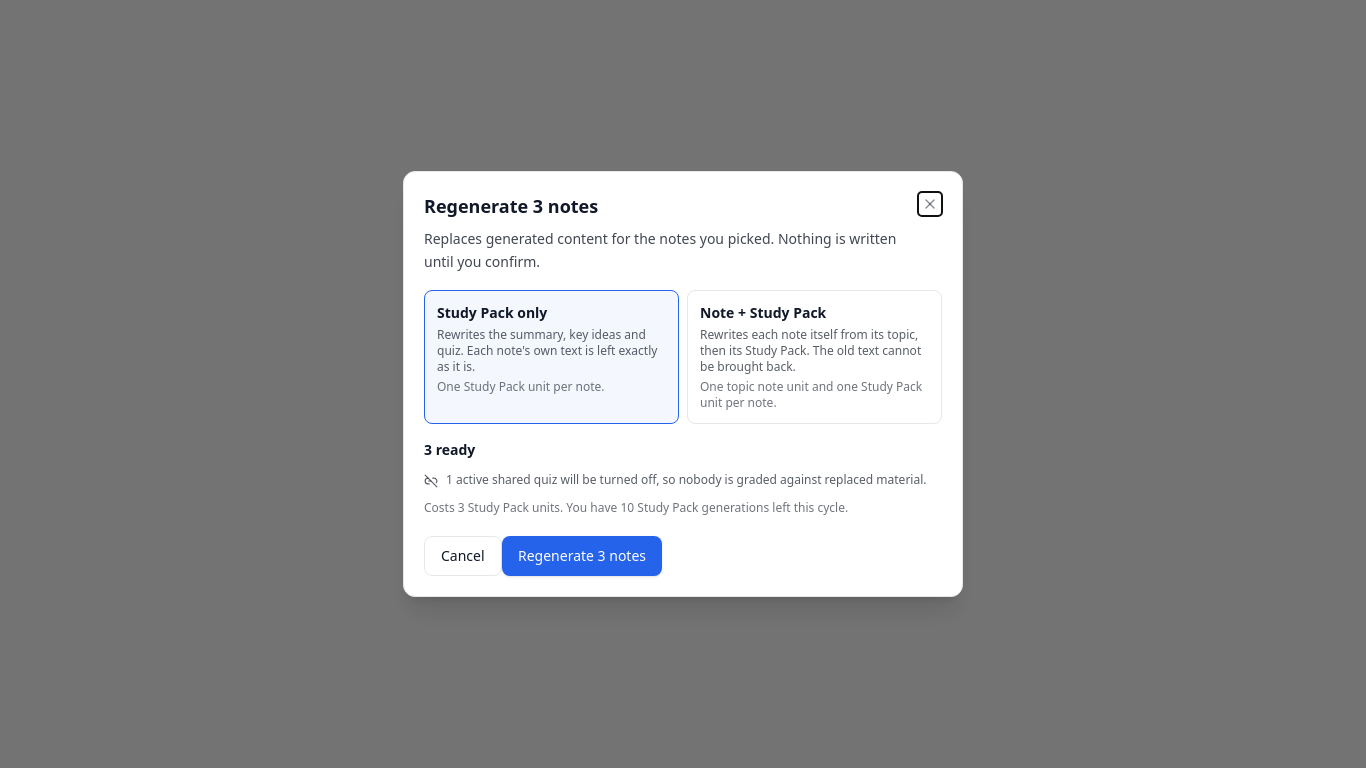
Test case: BulkRegenerateModal › warns about a shared-quiz deactivation on either scope, but public notes only on the combined scope
Expected: the text "public note" is not shown
Expected: the text "1 active shared quiz will be" is shown, [446,472,926,488]
Step 1. Click the radio button labelled "Rewrites each note itself" → (814, 357), box [687,290,942,424]
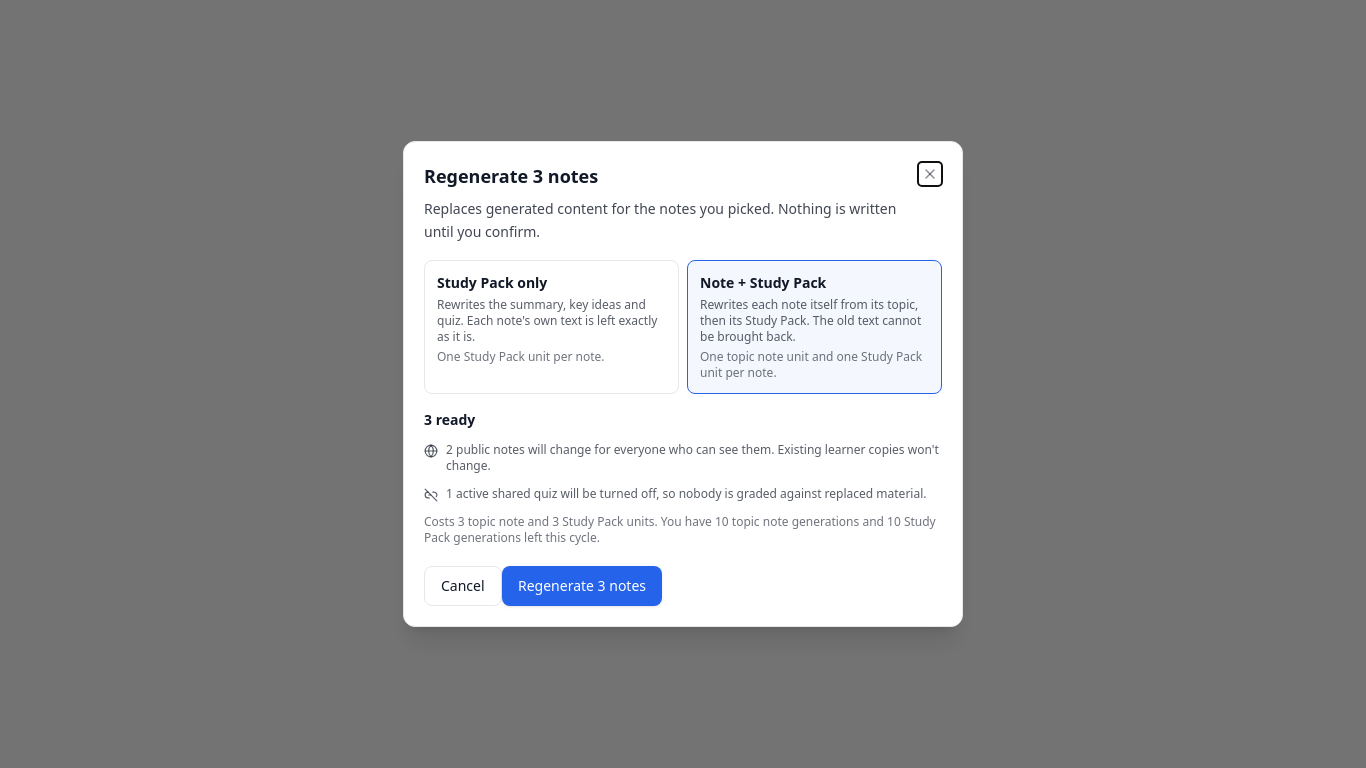
Expected: the text "1 active shared quiz will be" is shown, [446,486,926,502]
Expected: the text "2 public notes will change" is shown, [446,442,942,474]
